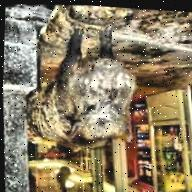boar: (32, 34, 144, 176)
